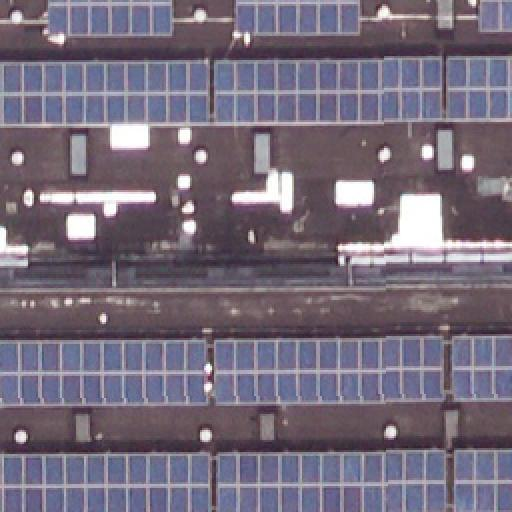solar-panel: (212, 332, 444, 404), (213, 58, 443, 126), (0, 61, 208, 131), (0, 337, 204, 407), (213, 449, 443, 511), (0, 454, 208, 512), (233, 0, 359, 36), (47, 0, 169, 36), (448, 332, 512, 400), (448, 55, 512, 121), (454, 448, 512, 512), (480, 0, 512, 32)
